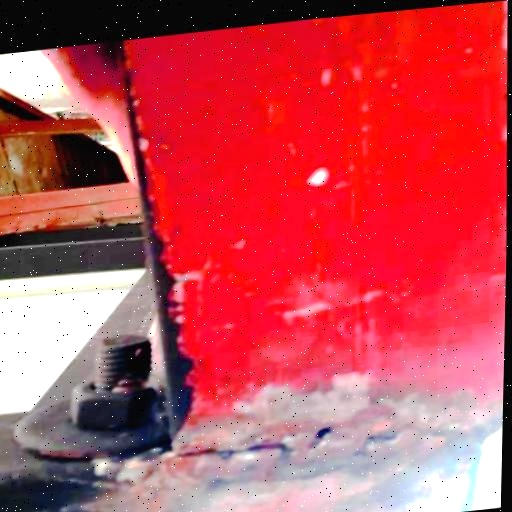crack: (168, 402, 482, 501)
